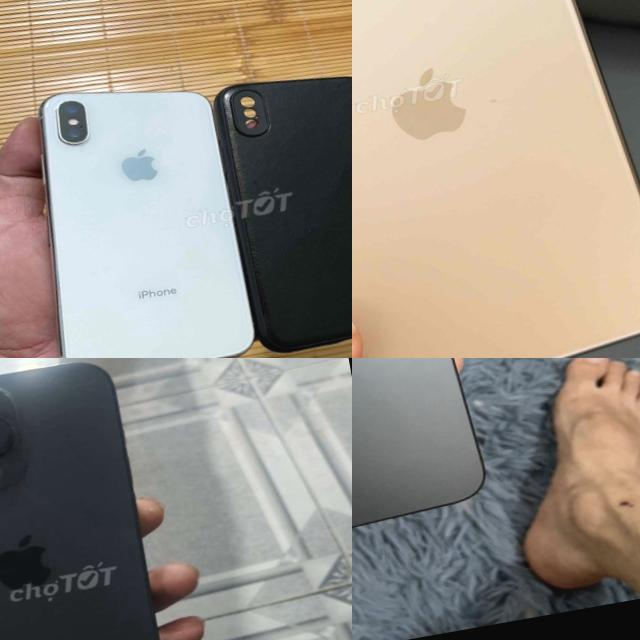gen_11: (352, 0, 640, 358)
gen_14: (0, 358, 195, 640)
gen_15: (352, 358, 511, 564)
gen_x_xs: (39, 91, 253, 358)
